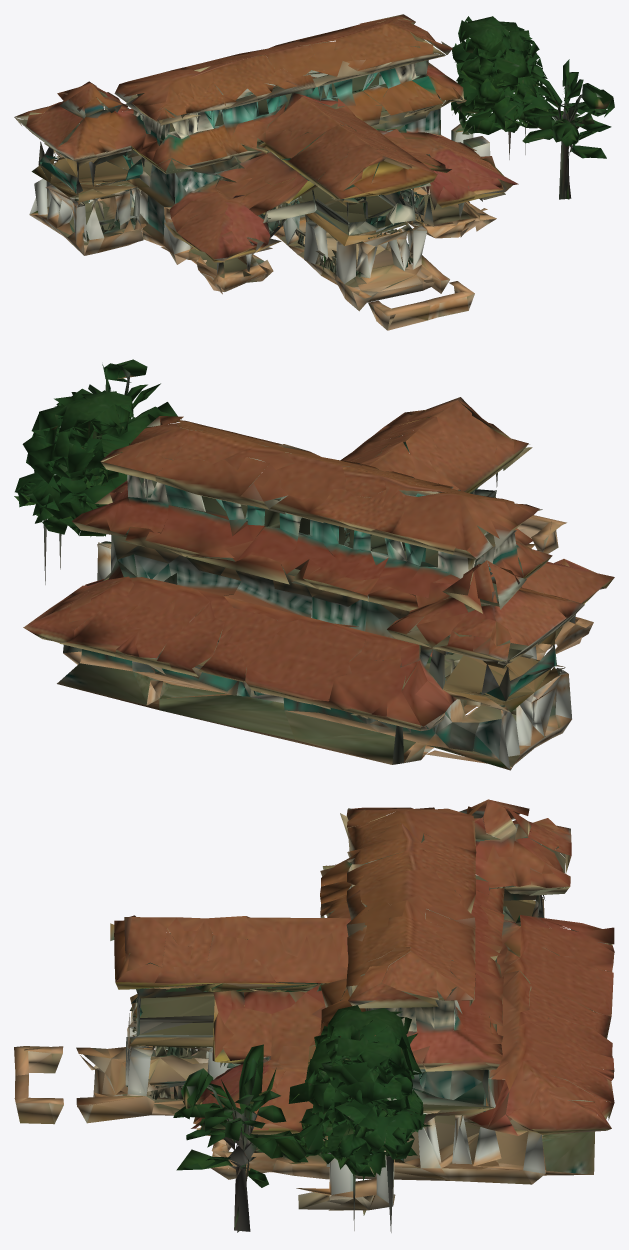
File: Worldec8ceb0ac2.glb
3 views of the same model, one above another, from view 1: azimuth 30°, elevation 25°; view 2: azimuth 150°, elevation 25°; view 3: azimuth 270°, elevation 25° (orthographic). The views are drawn at different scales.
Visible parts, largest first — view 1: Worldec8ceb0ac2; view 2: Worldec8ceb0ac2; view 3: Worldec8ceb0ac2.
Part boxes in pixels (x1,y1,x2,y2): Worldec8ceb0ac2: [14, 14, 614, 330]; Worldec8ceb0ac2: [14, 359, 614, 770]; Worldec8ceb0ac2: [14, 799, 614, 1232].
Size of the model in its own units: 7 by 2.34 by 5.81.
Materials: 1 (1 with a texture image).
